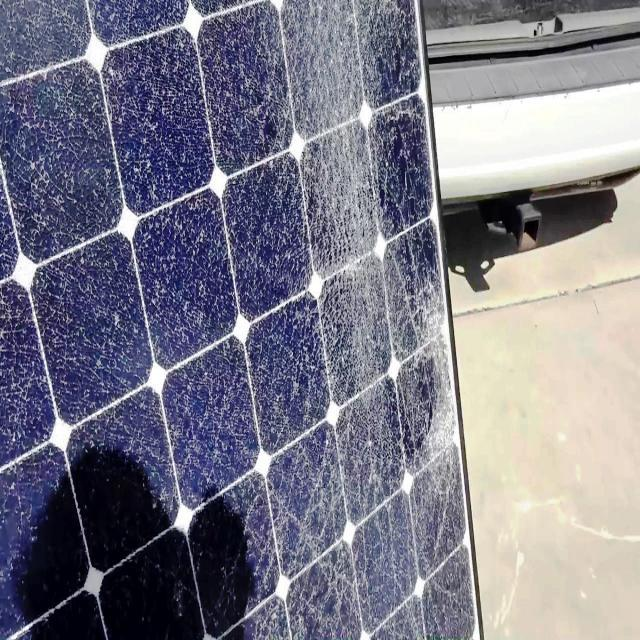faulty: (2, 7, 486, 640)
